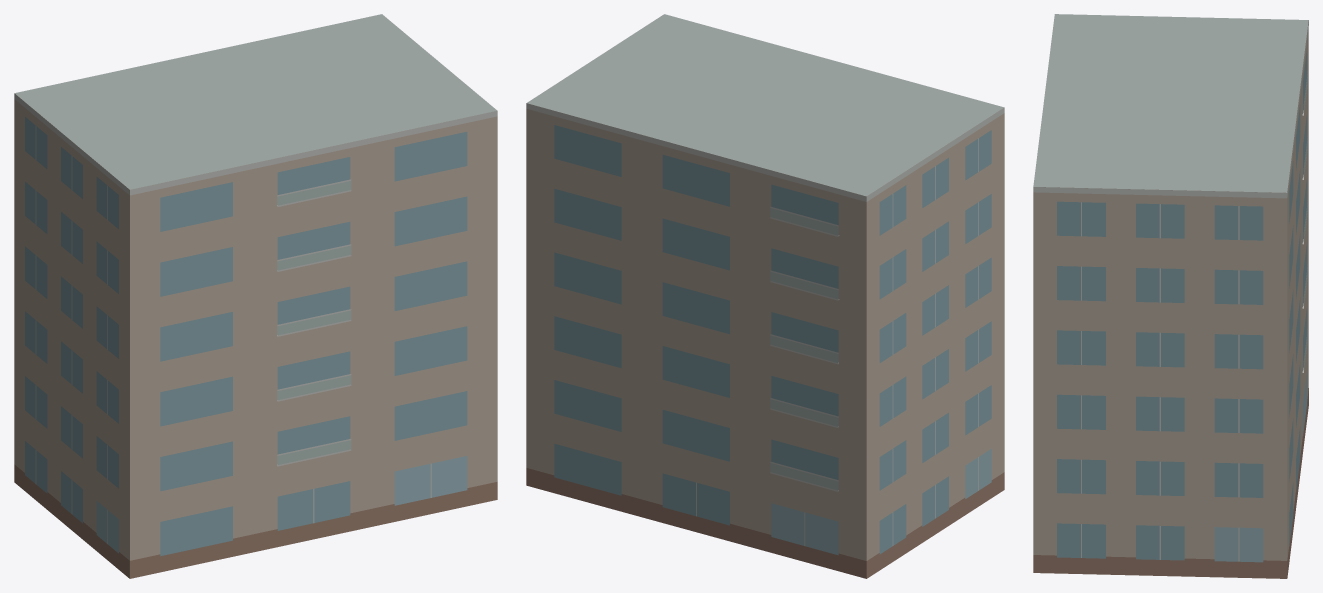
The model's file is survey-upis-32929051.glb.
3 views of the same model, side by side, from view 1: azimuth 30°, elevation 25°; view 2: azimuth 150°, elevation 25°; view 3: azimuth 270°, elevation 25° (orthographic).
Visible parts, largest first — view 1: survey-upis-32929051.tmp; view 2: survey-upis-32929051.tmp; view 3: survey-upis-32929051.tmp.
Boxes of the visible parts, box(x1,y1,x2,y2) form: survey-upis-32929051.tmp: box(14, 14, 497, 578); survey-upis-32929051.tmp: box(526, 14, 1004, 578); survey-upis-32929051.tmp: box(1033, 14, 1308, 578).
Bounding box in the file's own units: 16.7 × 16.8 × 10.87.
